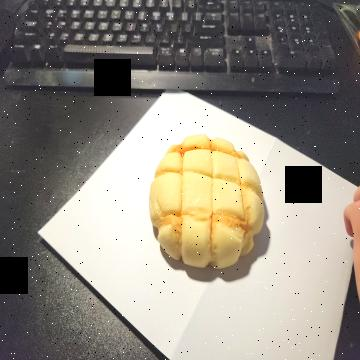melon_bread: (151, 135, 265, 272)
